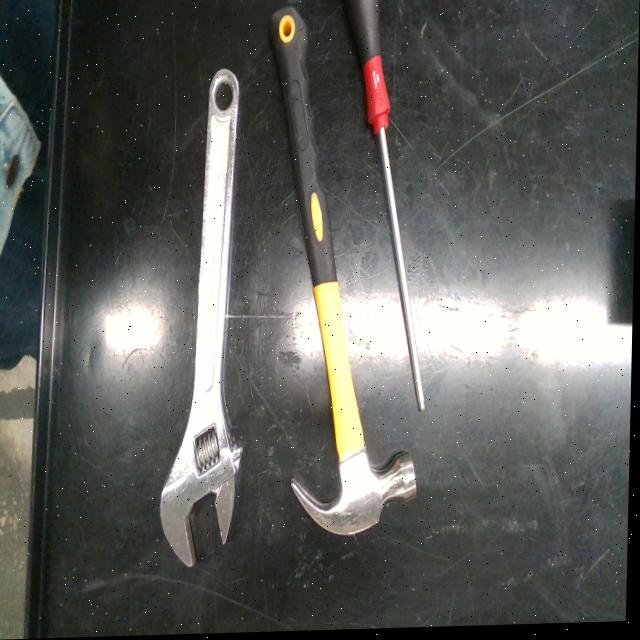Screwdriver: (345, 0, 427, 413)
